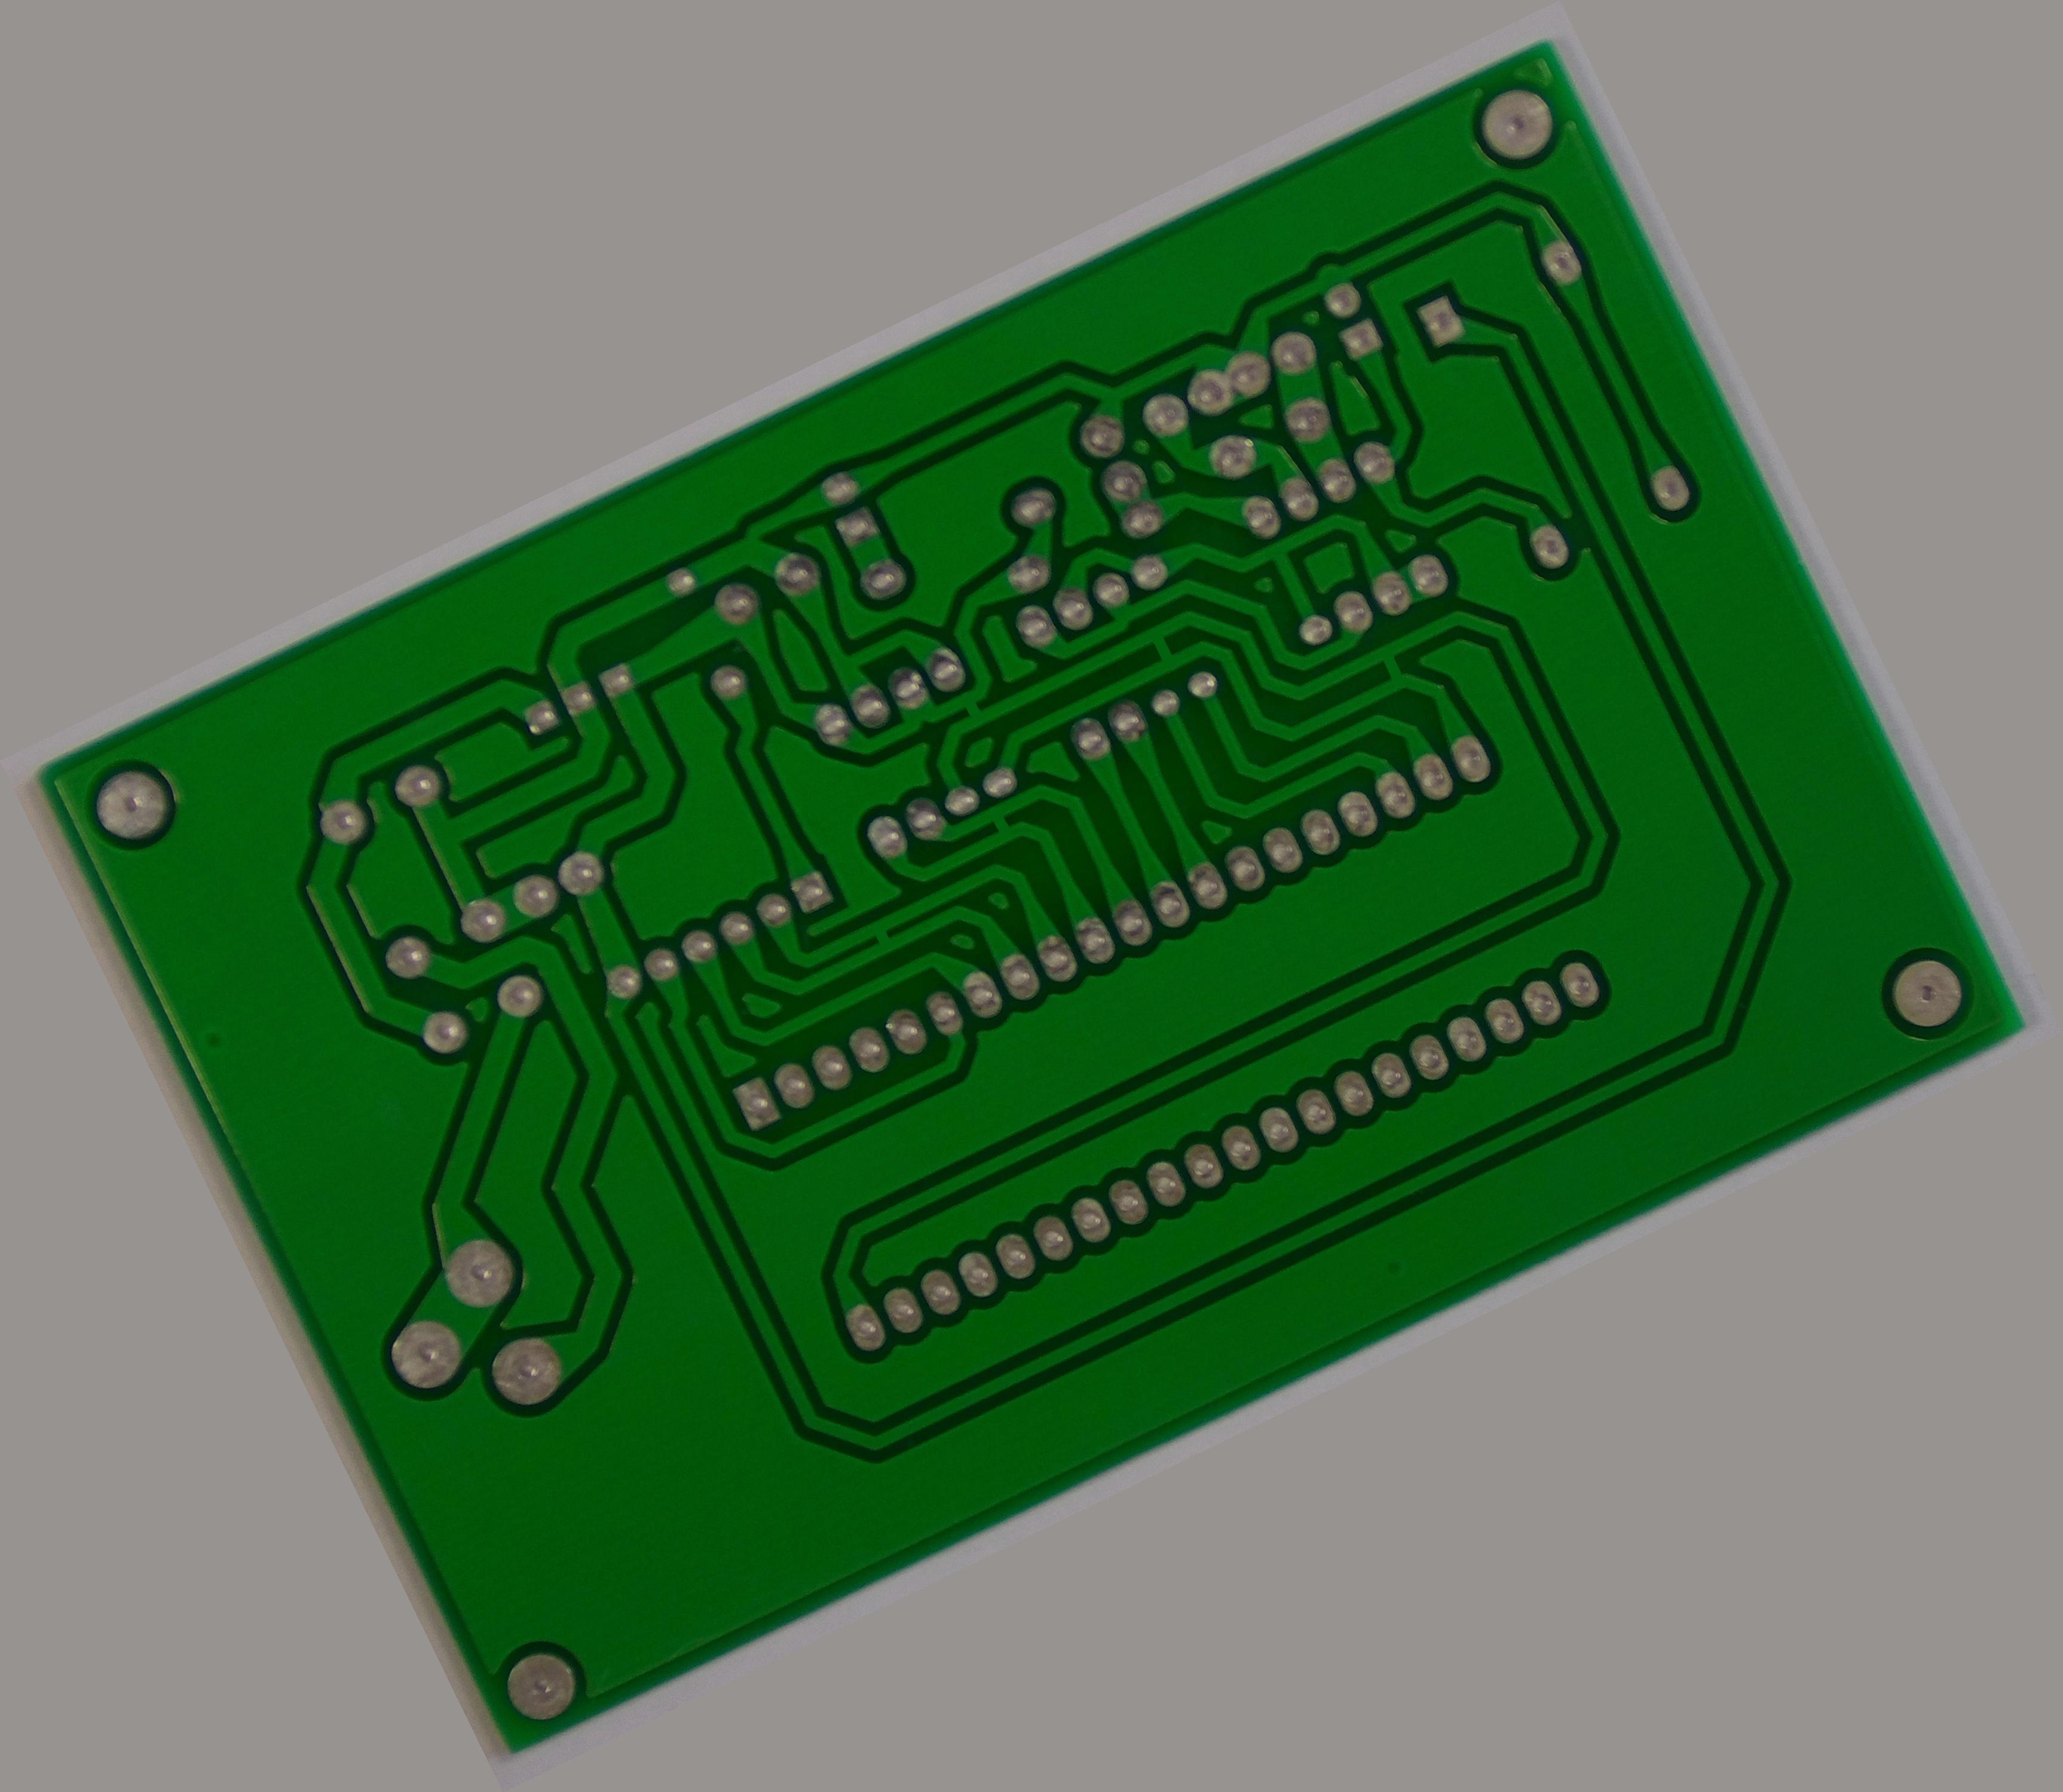short: (1353, 626, 1428, 707), (930, 670, 1003, 743), (960, 787, 1037, 857), (1130, 610, 1200, 684), (854, 910, 912, 966)
